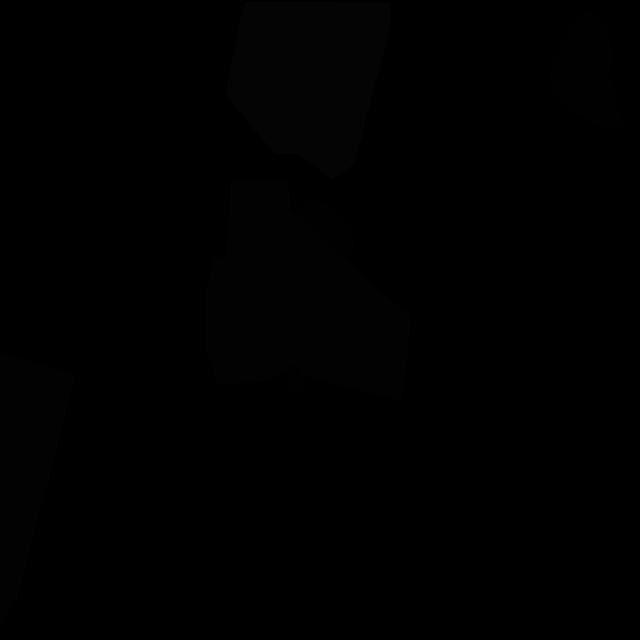cardboard: (204, 177, 411, 400), (0, 352, 76, 627)
rigid_plastic: (546, 10, 624, 131), (296, 199, 356, 260), (280, 367, 304, 395)
soft_plastic: (225, 1, 391, 180)
